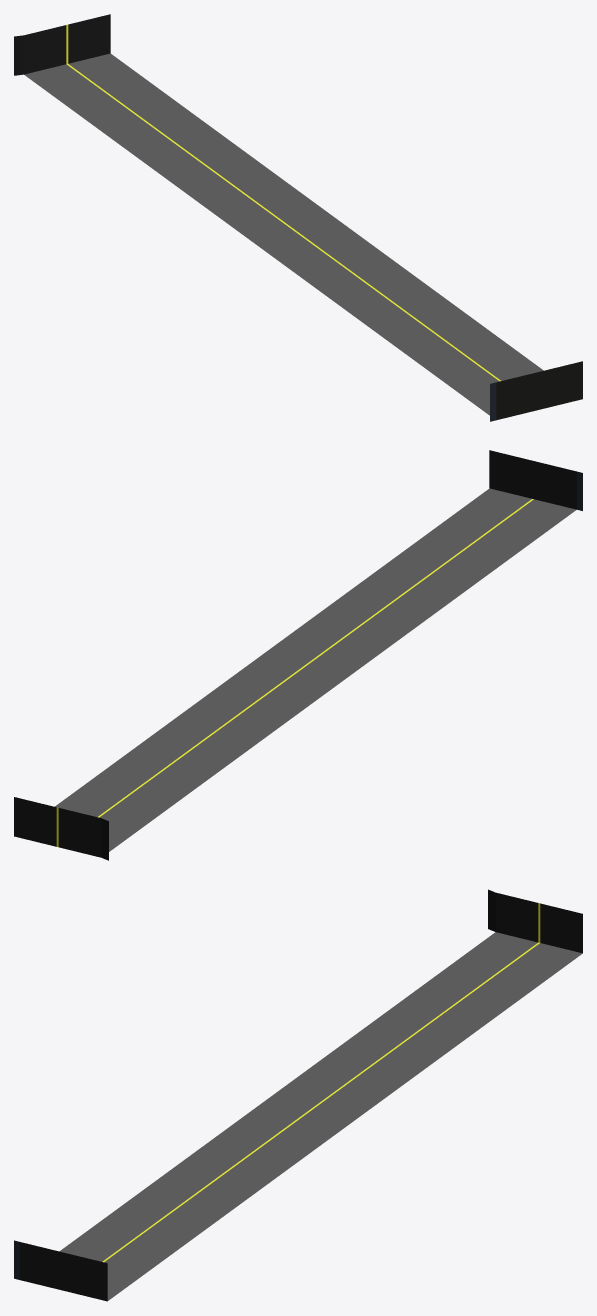
Rendered from Two_Way_Road.fbx.
3 views of the same model, one above another, from view 1: azimuth 30°, elevation 25°; view 2: azimuth 150°, elevation 25°; view 3: azimuth 330°, elevation 25° (orthographic).
Parts seen in each view (by area): view 1: TwoWay_Road; view 2: TwoWay_Road; view 3: TwoWay_Road.
Boxes of the visible parts, bbox=[...] form: TwoWay_Road: bbox=[14, 14, 582, 421]; TwoWay_Road: bbox=[14, 450, 582, 860]; TwoWay_Road: bbox=[14, 889, 582, 1301].
Size of the model in its own units: 2523 by 993 by 21676.
Materials: 1 (1 with a texture image).
